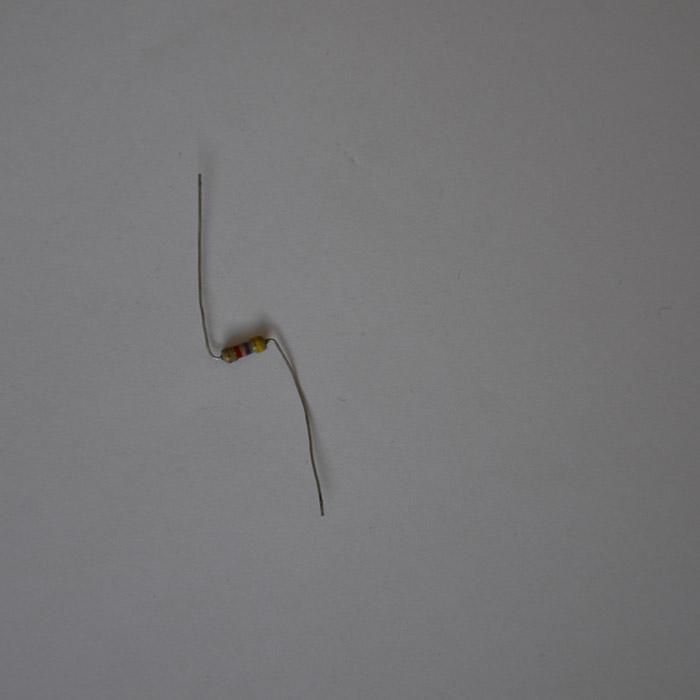resistor: (221, 335, 269, 362)
